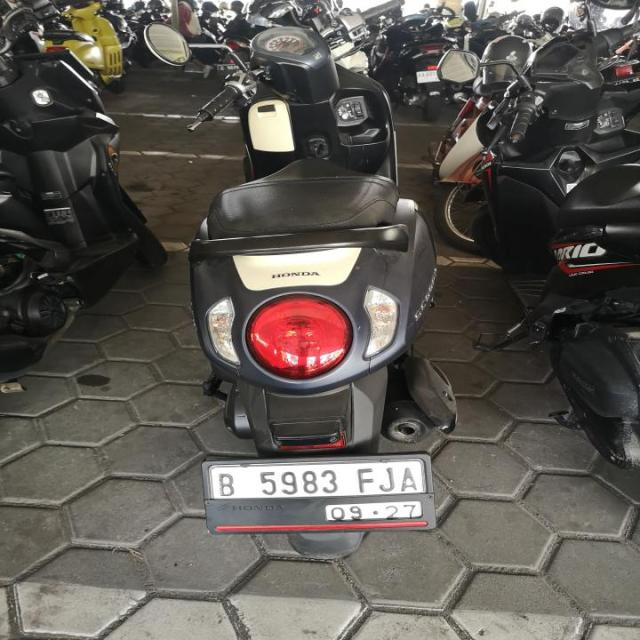License Plate: (206, 456, 427, 525)
